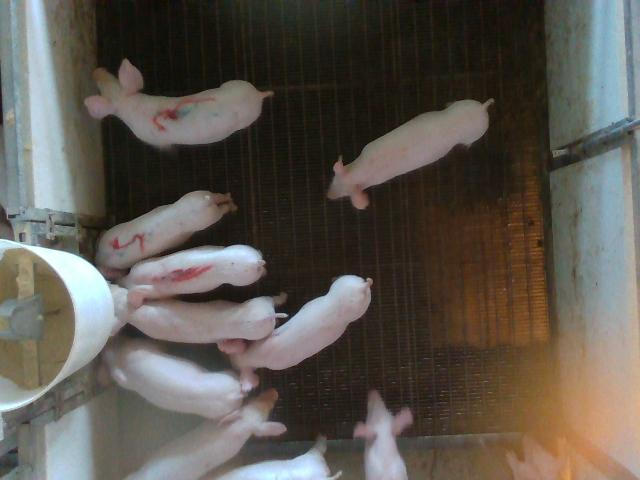pig-1: (121, 245, 265, 299)
pig-3: (85, 59, 272, 148)
pig-5: (96, 191, 236, 269)
